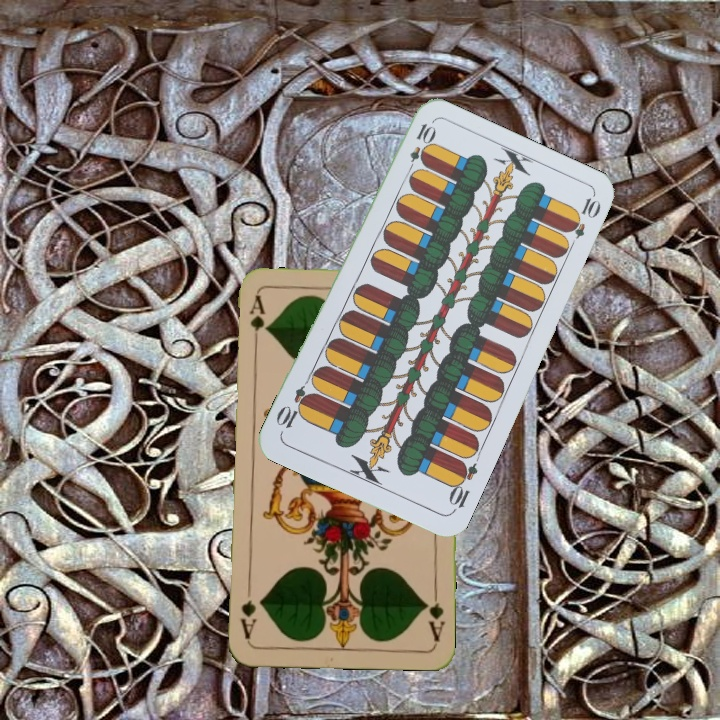E10: (444, 457, 480, 516), (403, 119, 436, 177)
GA: (420, 585, 447, 644), (245, 292, 266, 351)
